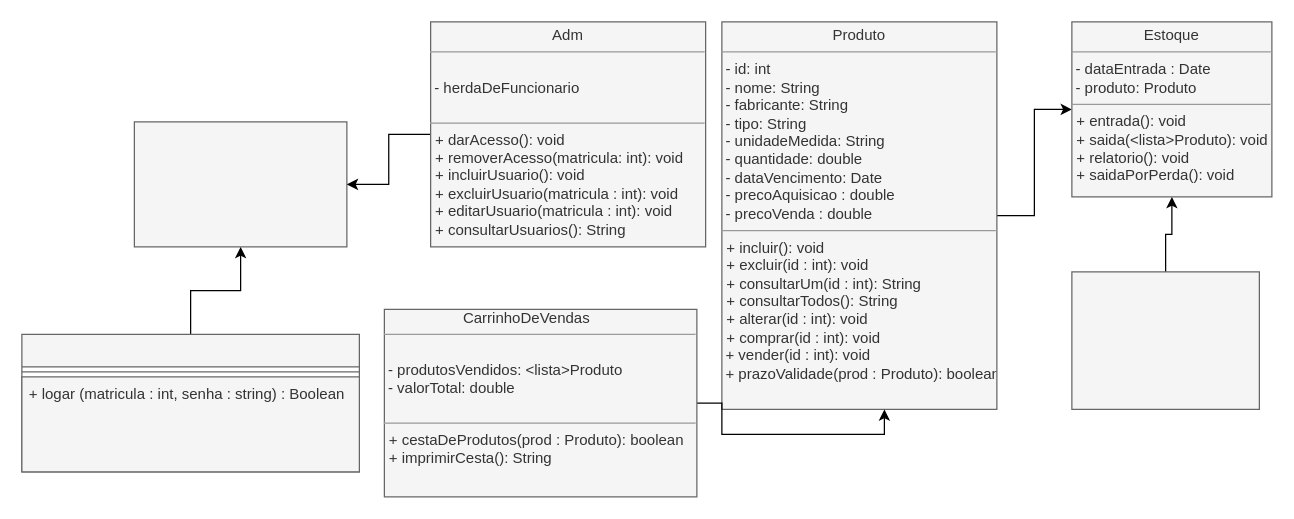
The diagram is 1294 pixels wide and 519 high, and some of its shapes have lost their labels. The shapes that lost their labels are listed below. From the top down, each one's box as (x1, y1, x2, y2) in pixels, then its label:
(133, 121, 347, 247): Funcionarios - matricula: int - nome: String - admin: boolean - senha: String
(1071, 271, 1259, 409): Contabilidade + relatorio(): void
(21, 333, 359, 472): Login
